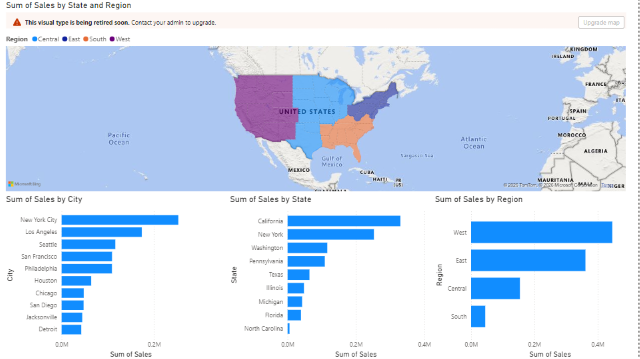

This screenshot's page, from the dashboard's own definition file:
{"tool":"powerbi","page":{"name":"Geographic Insights","canvas":[1280,720],"ordinal":2},"visuals":[{"type":"filledMap","fields":{"Category":["train.State"],"Series":["train.Region"]},"box":[10,0,1250,387.5],"z":0},{"type":"barChart","fields":{"Category":["train.City"],"Y":["Sum(train.Sales)"]},"box":[10,387.5,412.5,332.5],"z":1000},{"type":"barChart","fields":{"Y":["Sum(train.Sales)"],"Category":["train.State"]},"box":[457.5,387.5,412.5,332.5],"z":2000},{"type":"barChart","fields":{"Y":["Sum(train.Sales)"],"Category":["train.Region"]},"box":[867.5,387.5,412.5,332.5],"z":3000}]}

Visuals, with their boxes in screenshot pixels (x1, y1, x2, y2), scaled from the page's 1280x720 canvas onto the 640x359 screenshot:
filledMap - train.State x train.Region: crop(5, 0, 630, 193)
barChart - train.City x Sum(train.Sales): crop(5, 193, 211, 358)
barChart - Sum(train.Sales) x train.State: crop(229, 193, 435, 358)
barChart - Sum(train.Sales) x train.Region: crop(434, 193, 639, 358)
